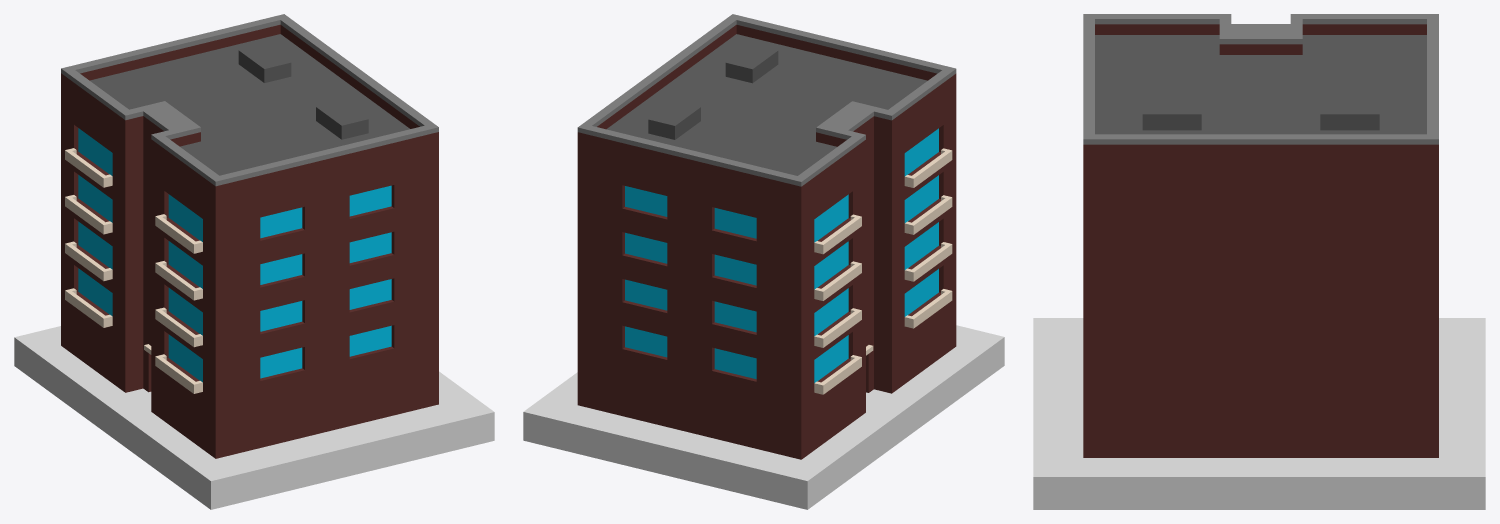
The model's file is apartment.glb.
3 renders of one model, left to right at view 1: azimuth 30°, elevation 25°; view 2: azimuth 150°, elevation 25°; view 3: azimuth 270°, elevation 25°, orthographic. The views are drawn at different scales.
Visible parts, largest first — view 1: House04, Cube; view 2: House04, Cube; view 3: House04, Cube.
Boxes of the visible parts, box(x1,y1,x2,y2) form: House04: box(61, 14, 438, 458); Cube: box(14, 326, 494, 509); House04: box(577, 14, 956, 459); Cube: box(523, 325, 1004, 509); House04: box(1083, 14, 1438, 457); Cube: box(1033, 318, 1485, 509).
Size of the model in its own units: 6.35 by 6.55 by 7.63.
Materials: 1 (1 with a texture image).
